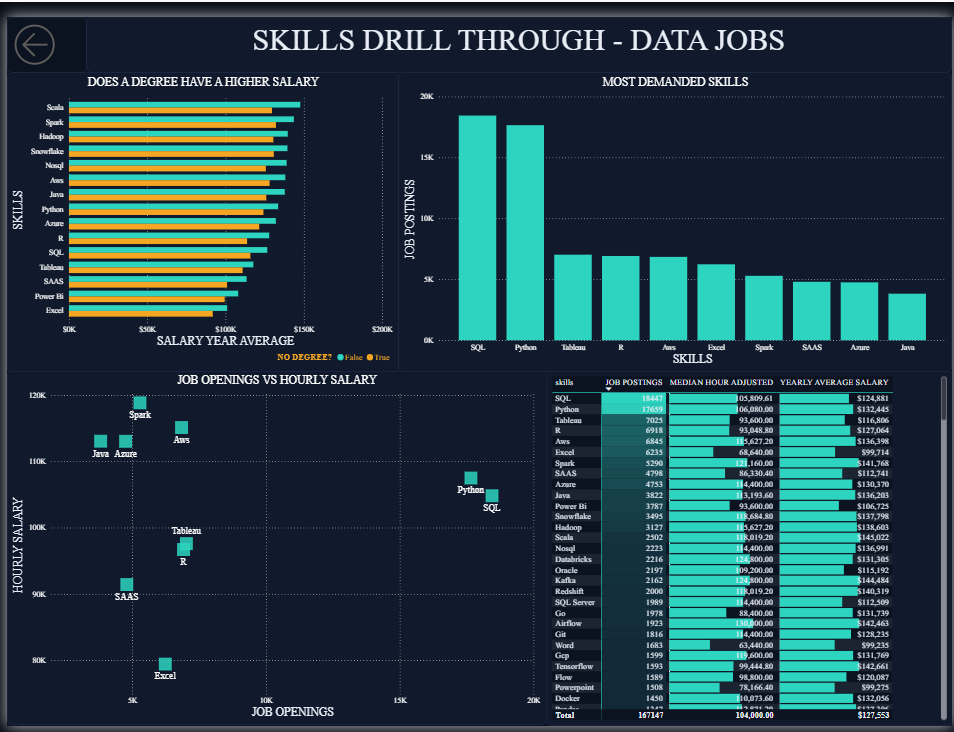

This screenshot's page, from the dashboard's own definition file:
{"tool":"powerbi","page":{"name":"SKILL DRILL THROUGH","canvas":[1500,1125],"ordinal":1},"visuals":[{"type":"actionButton","box":[0,0,126.8,87.8],"z":0},{"type":"scatterChart","title":"JOB OPENINGS VS HOURLY SALARY","fields":{"Category":["datasets_montly.skills"],"Y":["_meaures.HOUR AVERAGE ADJUSTED"],"X":["datasets_montly.job_title_short"]},"box":[0,563,856.2,561.6],"z":1000},{"type":"pivotTable","fields":{"Rows":["datasets_montly.skills"],"Values":["CountNonNull(datasets_montly.job_title_short)","_meaures.MEDIAN HOUR ADJUSTED","_meaures.YEARLY AVERAGE SALARY"]},"box":[856.2,563,643.8,563],"z":2000},{"type":"textbox","box":[126.8,0,1373.2,87.8],"z":3000},{"type":"clusteredBarChart","title":"DOES A DEGREE HAVE A HIGHER SALARY","fields":{"Category":["datasets_montly.skills"],"Y":["Avg(datasets_montly.salary_year_avg)"],"Series":["datasets_montly.job_no_degree_mention"]},"box":[0,87.7,621.9,475.3],"z":4000},{"type":"clusteredColumnChart","title":"MOST DEMANDED SKILLS","fields":{"Category":["datasets_montly.skills"],"Y":["CountNonNull(datasets_montly.job_title_short)"]},"box":[622,88,878,475],"z":5000}]}

Visuals, with their boxes in screenshot pixels (x1, y1, x2, y2), scaled from the page's 1500x1125 canvas onto the 954x732 screenshot:
actionButton: crop(0, 0, 81, 57)
"JOB OPENINGS VS HOURLY SALARY" scatterChart: crop(0, 366, 545, 731)
pivotTable - datasets_montly.skills x CountNonNull(datasets_montly.job_title_short): crop(545, 366, 953, 731)
textbox: crop(81, 0, 953, 57)
"DOES A DEGREE HAVE A HIGHER SALARY" clusteredBarChart: crop(0, 57, 396, 366)
"MOST DEMANDED SKILLS" clusteredColumnChart: crop(396, 57, 953, 366)
